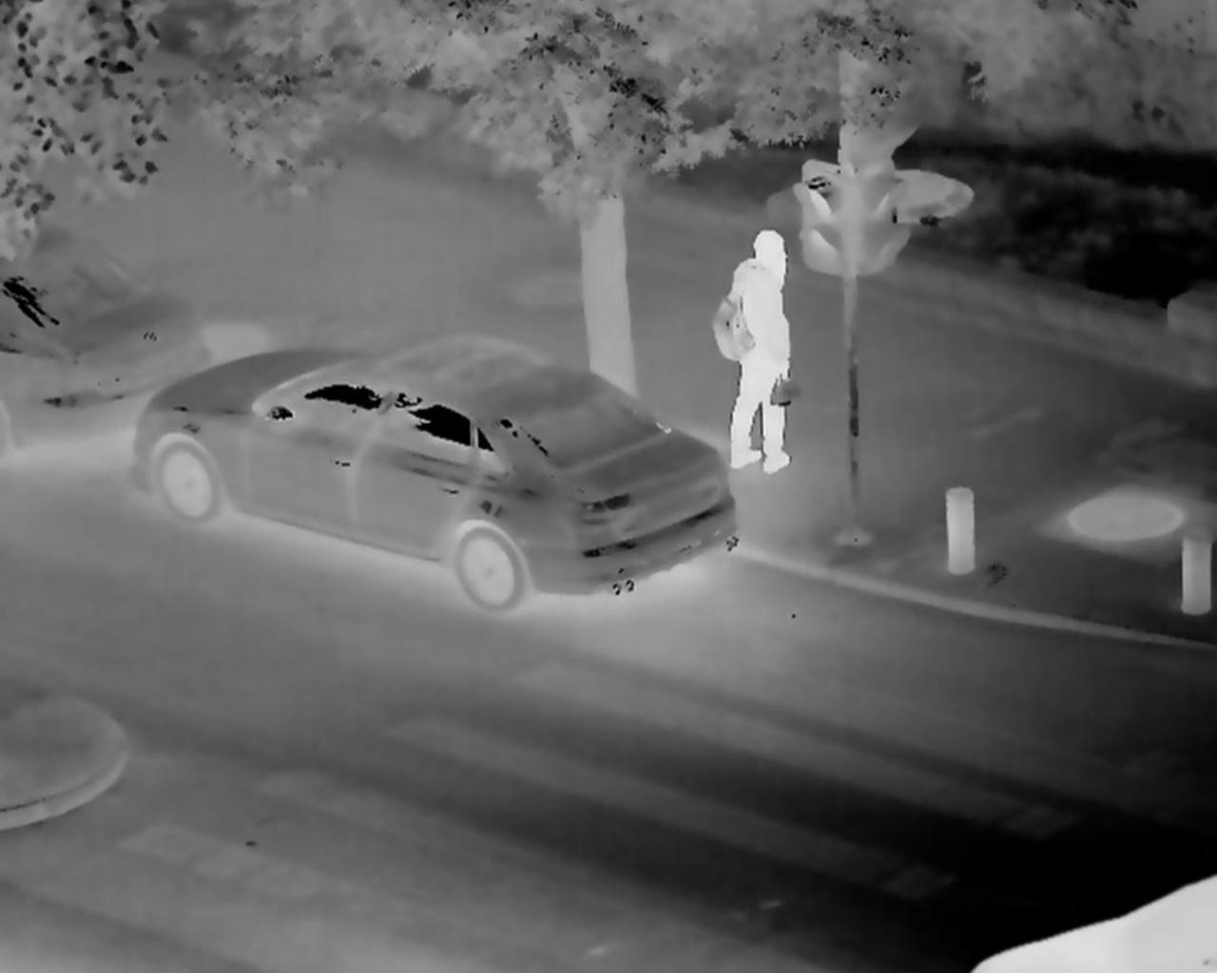person: (709, 225, 809, 478)
